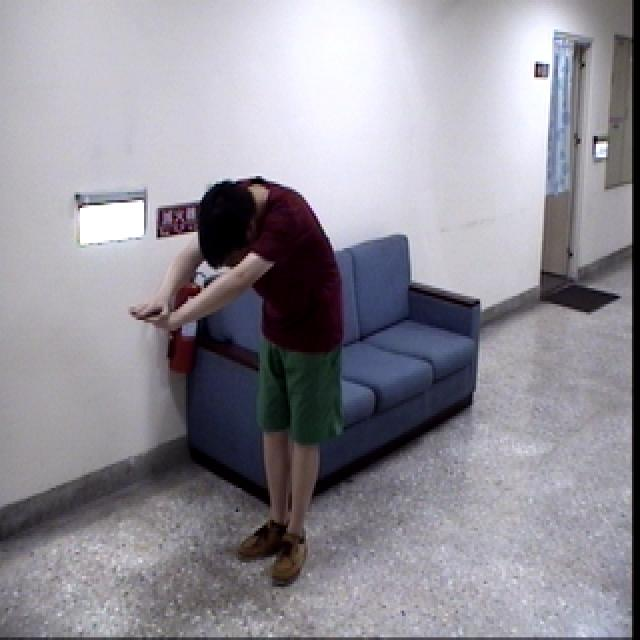bend: (130, 174, 352, 587)
